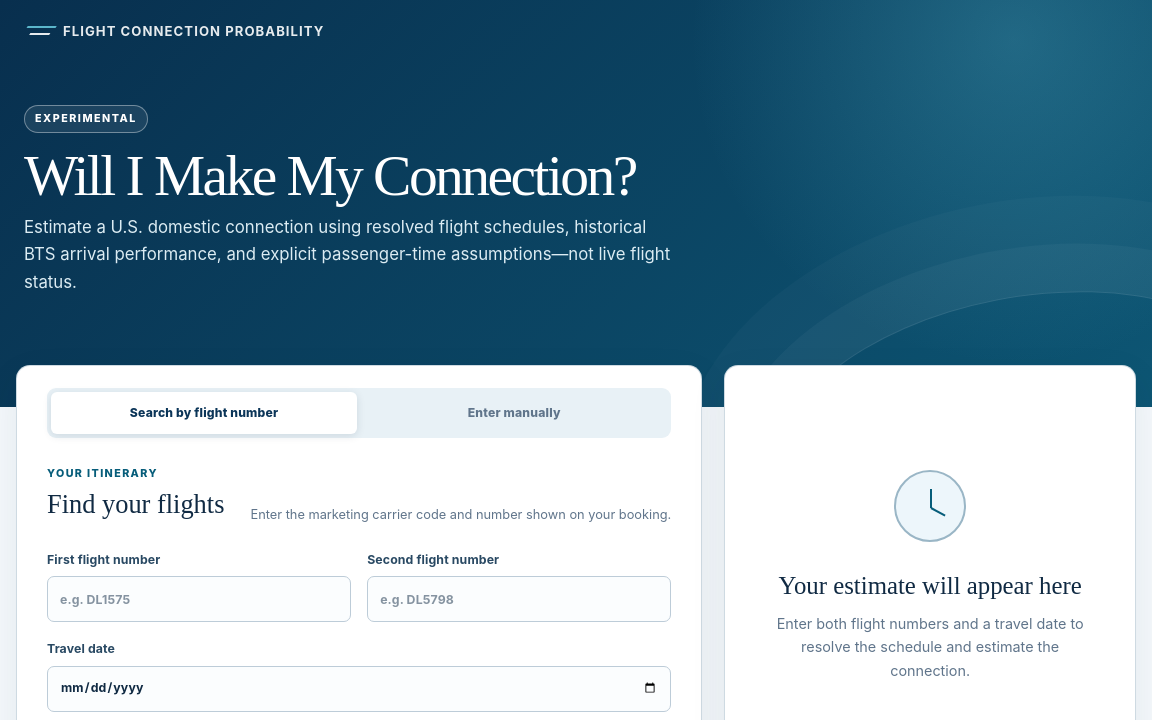
Test: ConnectionRiskCalculator › defaults to flight-number mode and preserves the manual mode
Expected: the field labelled "First flight number" is shown, [47, 576, 351, 622]
Expected: the field labelled "Origin airport" is not shown
Click the tab "Enter manually". click: (514,413)
box: [361, 392, 667, 434]
(page scrolled)
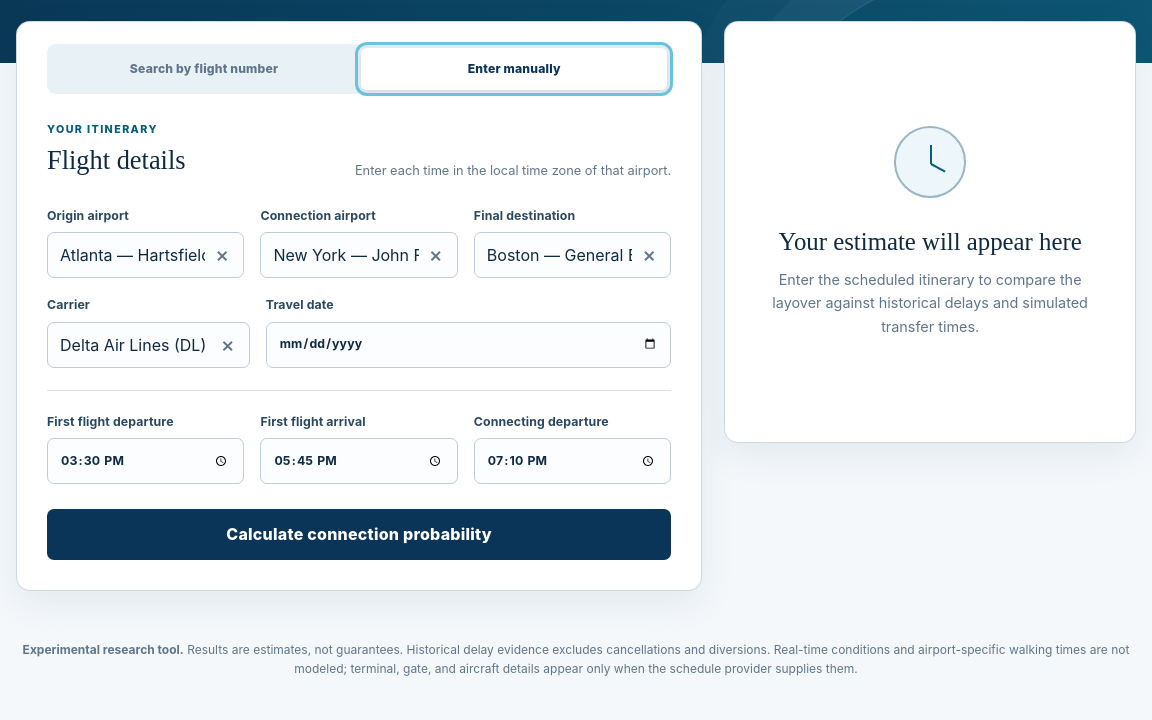
Expected: the time field labelled "First flight departure" is shown, [47, 438, 244, 484]
Expected: the dropdown labelled "Origin airport" is shown, [47, 232, 244, 278]
Expected: the dropdown labelled "Carrier" is shown, [47, 322, 250, 368]
